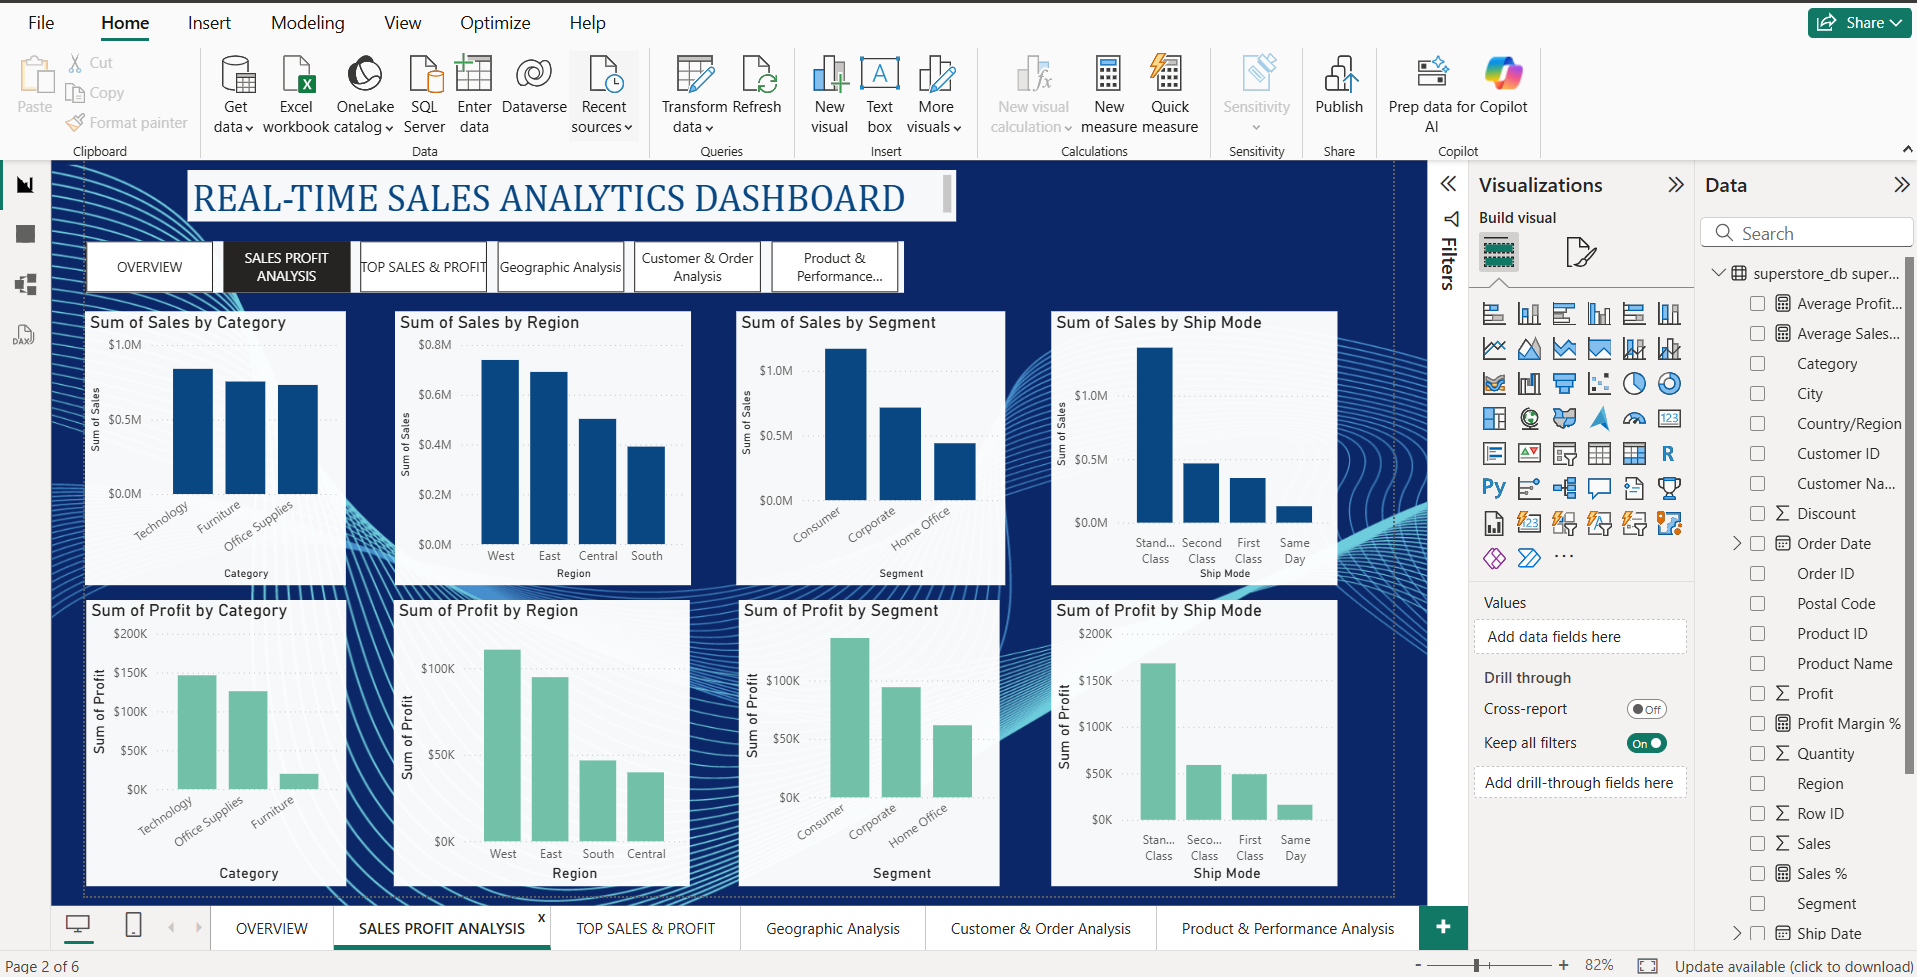

The page's visual inventory and layout, read from the dashboard file:
{"tool":"powerbi","page":{"name":"SALES  PROFIT ANALYSIS","canvas":[1280,720],"ordinal":1},"visuals":[{"type":"clusteredColumnChart","fields":{"Category":["superstore_db superstore.Ship Mode"],"Y":["Sum(superstore_db superstore.Sales)"]},"box":[945.2,148,280,267.8],"z":0},{"type":"clusteredColumnChart","fields":{"Category":["superstore_db superstore.Category"],"Y":["Sum(superstore_db superstore.Sales)"]},"box":[0,148,255.6,267.8],"z":1000},{"type":"clusteredColumnChart","fields":{"Category":["superstore_db superstore.Region"],"Y":["Sum(superstore_db superstore.Sales)"]},"box":[303.3,148,289.8,267.8],"z":2000},{"type":"clusteredColumnChart","fields":{"Category":["superstore_db superstore.Segment"],"Y":["Sum(superstore_db superstore.Sales)"]},"box":[637.1,148,262.9,267.8],"z":3000},{"type":"clusteredColumnChart","fields":{"Category":["superstore_db superstore.Category"],"Y":["Sum(superstore_db superstore.Profit)"]},"box":[1.2,430.4,254.3,280],"z":4000},{"type":"clusteredColumnChart","fields":{"Category":["superstore_db superstore.Region"],"Y":["Sum(superstore_db superstore.Profit)"]},"box":[302,430.4,289.8,280],"z":5000},{"type":"clusteredColumnChart","fields":{"Category":["superstore_db superstore.Segment"],"Y":["Sum(superstore_db superstore.Profit)"]},"box":[639.5,430.4,255.6,280],"z":6000},{"type":"clusteredColumnChart","fields":{"Category":["superstore_db superstore.Ship Mode"],"Y":["Sum(superstore_db superstore.Profit)"]},"box":[945.2,430.4,280,280],"z":7000},{"type":"textbox","box":[100.3,9.8,752,50.1],"z":8000},{"type":"pageNavigator","box":[1.2,79.5,799.7,50.1],"z":9000}]}

Visuals, with their boxes on the page's 1280x720 design canvas (x1, y1, x2, y2). These are canvas units, not pixel positions in the 1917x977 screenshot, which may show the page scaled, cropped or inside an application window:
clusteredColumnChart - superstore_db superstore.Ship Mode x Sum(superstore_db superstore.Sales): (x1=945, y1=148, x2=1225, y2=416)
clusteredColumnChart - superstore_db superstore.Category x Sum(superstore_db superstore.Sales): (x1=0, y1=148, x2=256, y2=416)
clusteredColumnChart - superstore_db superstore.Region x Sum(superstore_db superstore.Sales): (x1=303, y1=148, x2=593, y2=416)
clusteredColumnChart - superstore_db superstore.Segment x Sum(superstore_db superstore.Sales): (x1=637, y1=148, x2=900, y2=416)
clusteredColumnChart - superstore_db superstore.Category x Sum(superstore_db superstore.Profit): (x1=1, y1=430, x2=256, y2=710)
clusteredColumnChart - superstore_db superstore.Region x Sum(superstore_db superstore.Profit): (x1=302, y1=430, x2=592, y2=710)
clusteredColumnChart - superstore_db superstore.Segment x Sum(superstore_db superstore.Profit): (x1=640, y1=430, x2=895, y2=710)
clusteredColumnChart - superstore_db superstore.Ship Mode x Sum(superstore_db superstore.Profit): (x1=945, y1=430, x2=1225, y2=710)
textbox: (x1=100, y1=10, x2=852, y2=60)
pageNavigator: (x1=1, y1=80, x2=801, y2=130)
